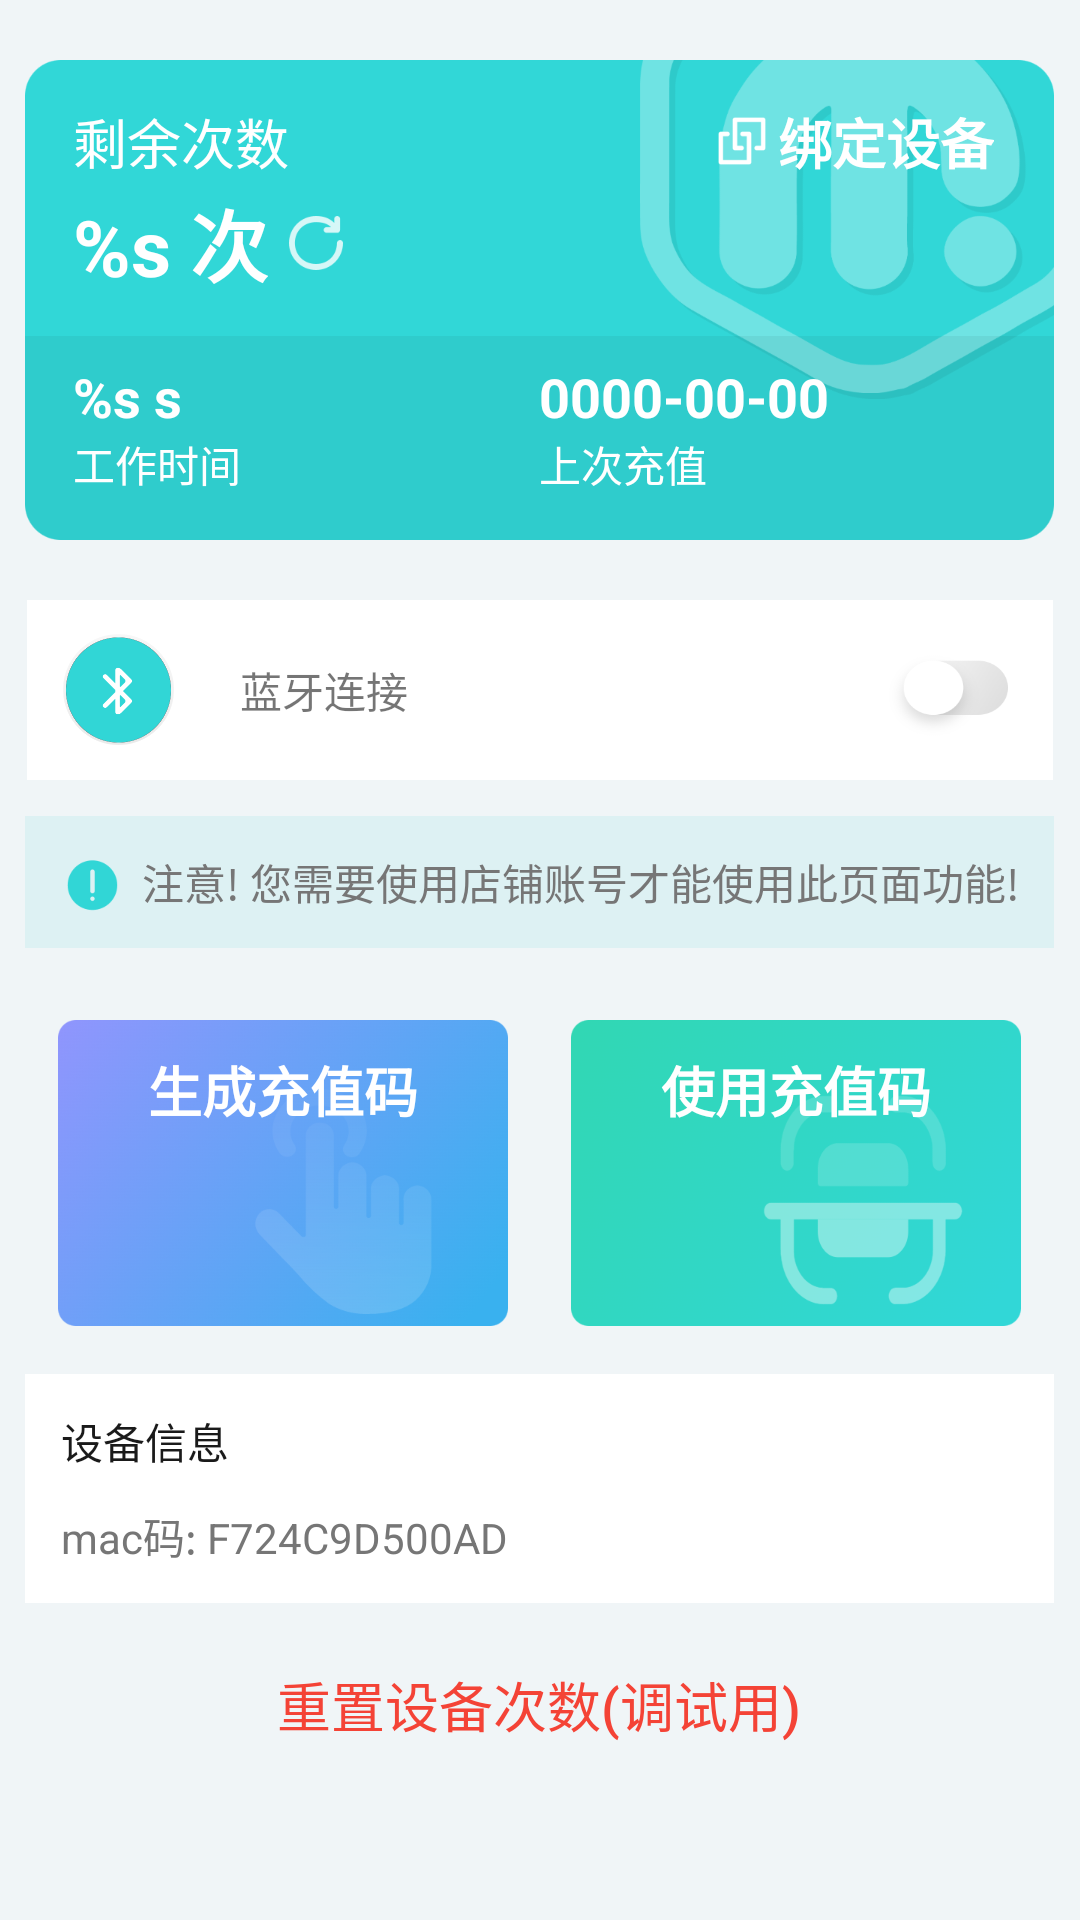

Screen size 1080w x 1920h. Icon name, then its center in pixels as [x,y]:
prompt: [92,885]
update: [316,243]
